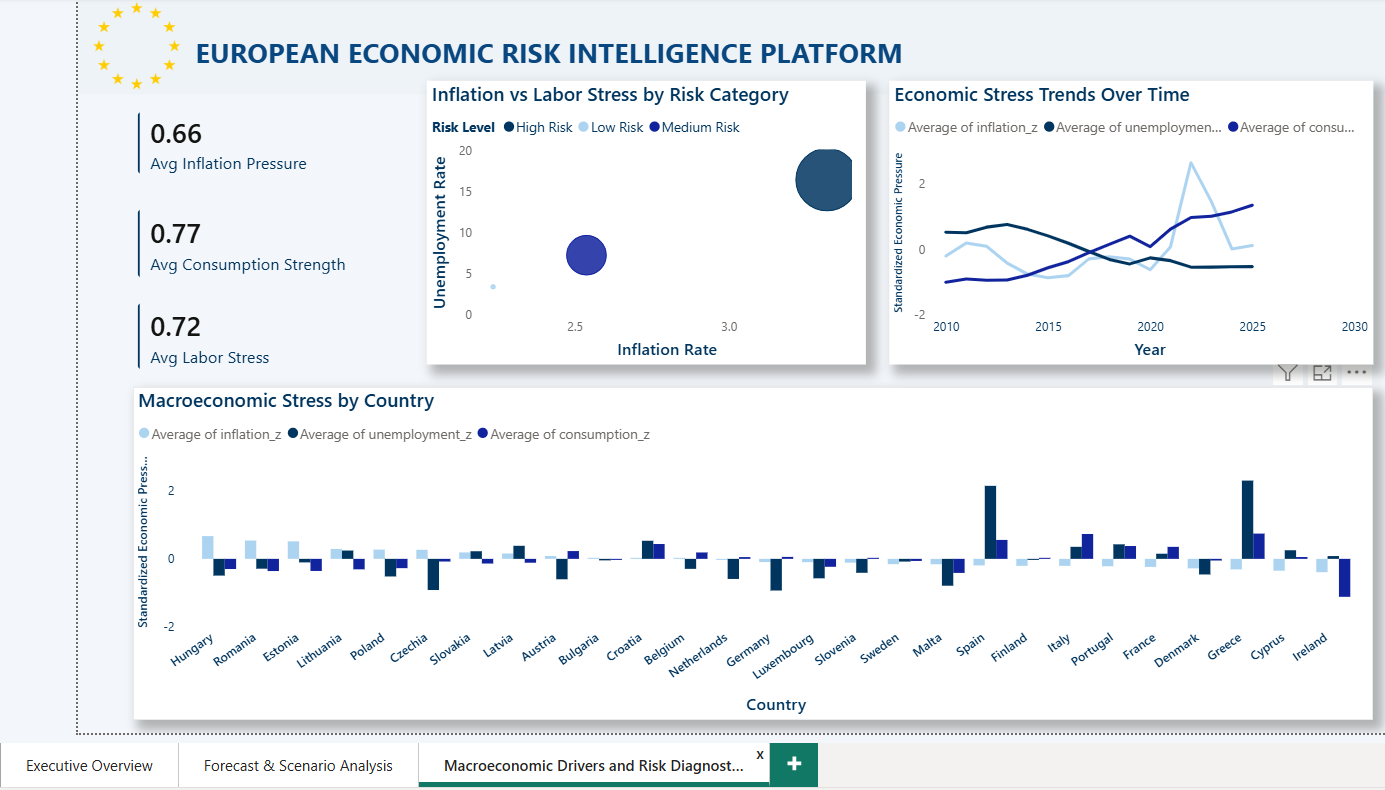

What the dashboard file says about the page in this screenshot:
{"tool":"powerbi","page":{"name":"Macroeconomic Drivers and Risk Diagnostics","canvas":[1280,720],"ordinal":2},"visuals":[{"type":"shape","box":[0,0,1280.3,95.4],"z":0},{"type":"scatterChart","title":"Inflation vs Labor Stress by Risk Category","fields":{"X":["Avg(Risk.inflation_rate)"],"Y":["Avg(Risk.unemployment_rate)"],"Size":["Avg(Risk.risk_score)"],"Series":["Risk.risk_level"]},"box":[341.2,81.9,429.2,277.6],"z":1000},{"type":"clusteredColumnChart","title":"Macroeconomic Stress by Country","fields":{"Category":["Risk.country"],"Y":["Avg(Risk.inflation_z)","Avg(Risk.unemployment_z)","Avg(Risk.consumption_z)"]},"box":[53.8,381.5,1213,325.3],"z":2000},{"type":"lineChart","title":"Economic Stress Trends Over Time","fields":{"Category":["Risk.year"],"Y":["Avg(Risk.inflation_z)","Avg(Risk.unemployment_z)","Avg(Risk.consumption_z)"]},"box":[793.6,81.9,473.2,277.6],"z":3000},{"type":"image","box":[14.7,0,85.6,95.4],"z":4000},{"type":"textbox","box":[110.1,30.6,715.4,51.4],"z":5000},{"type":"cardVisual","fields":{"Data":["Risk.Avg Inflation Pressure"]},"box":[41.6,95.4,283.7,95.4],"z":6000},{"type":"cardVisual","fields":{"Data":["Risk.Avg Consumption Strength"]},"box":[41.6,190.8,284.9,101.5],"z":7000},{"type":"cardVisual","fields":{"Data":["Risk.Avg Labor Stress"]},"box":[41.6,282.5,299.6,99],"z":8000}]}

Visuals, with their boxes on the page's 1280x720 design canvas (x1, y1, x2, y2). These are canvas units, not pixel positions in the 1385x790 screenshot, which may show the page scaled, cropped or inside an application window:
shape: [x1=0, y1=0, x2=1280, y2=95]
"Inflation vs Labor Stress by Risk Category" scatterChart: [x1=341, y1=82, x2=770, y2=360]
"Macroeconomic Stress by Country" clusteredColumnChart: [x1=54, y1=382, x2=1267, y2=707]
"Economic Stress Trends Over Time" lineChart: [x1=794, y1=82, x2=1267, y2=360]
image: [x1=15, y1=0, x2=100, y2=95]
textbox: [x1=110, y1=31, x2=826, y2=82]
cardVisual - Risk.Avg Inflation Pressure: [x1=42, y1=95, x2=325, y2=191]
cardVisual - Risk.Avg Consumption Strength: [x1=42, y1=191, x2=326, y2=292]
cardVisual - Risk.Avg Labor Stress: [x1=42, y1=282, x2=341, y2=382]
